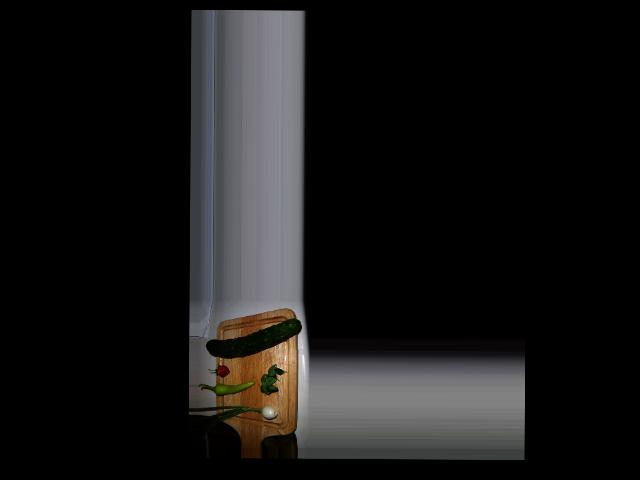cucumber: (206, 317, 301, 357)
